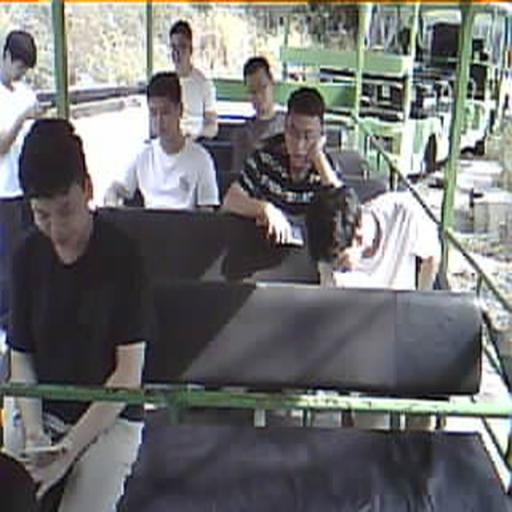persona: (0, 116, 147, 510), (220, 86, 346, 246), (102, 72, 220, 214), (306, 182, 444, 295), (160, 19, 218, 140), (233, 55, 288, 172)
